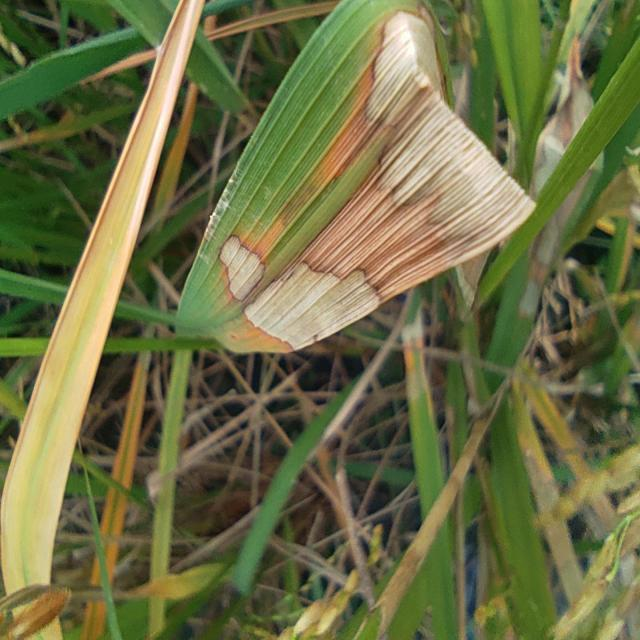Leaf_Blast: (1, 0, 202, 592)
Rice False Smut: (310, 12, 534, 299), (245, 262, 380, 350), (519, 173, 590, 318), (531, 37, 594, 195), (219, 235, 265, 300), (519, 278, 540, 318)
